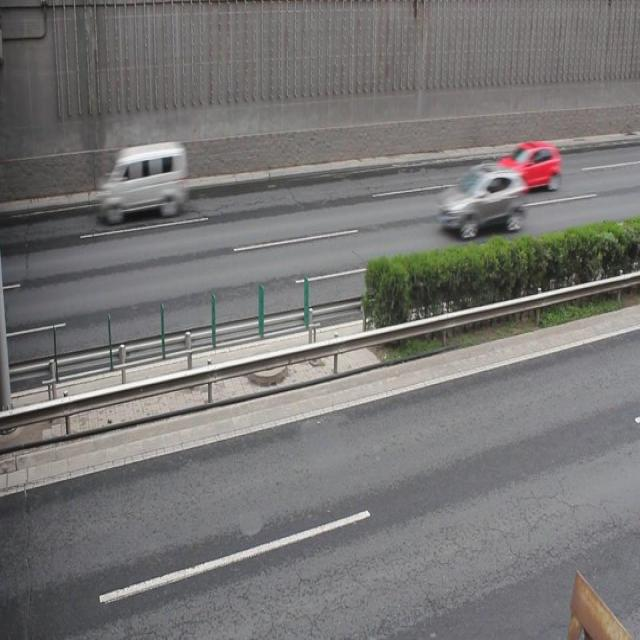car: (438, 164, 525, 235), (495, 142, 560, 192)
truck: (99, 142, 187, 224)
